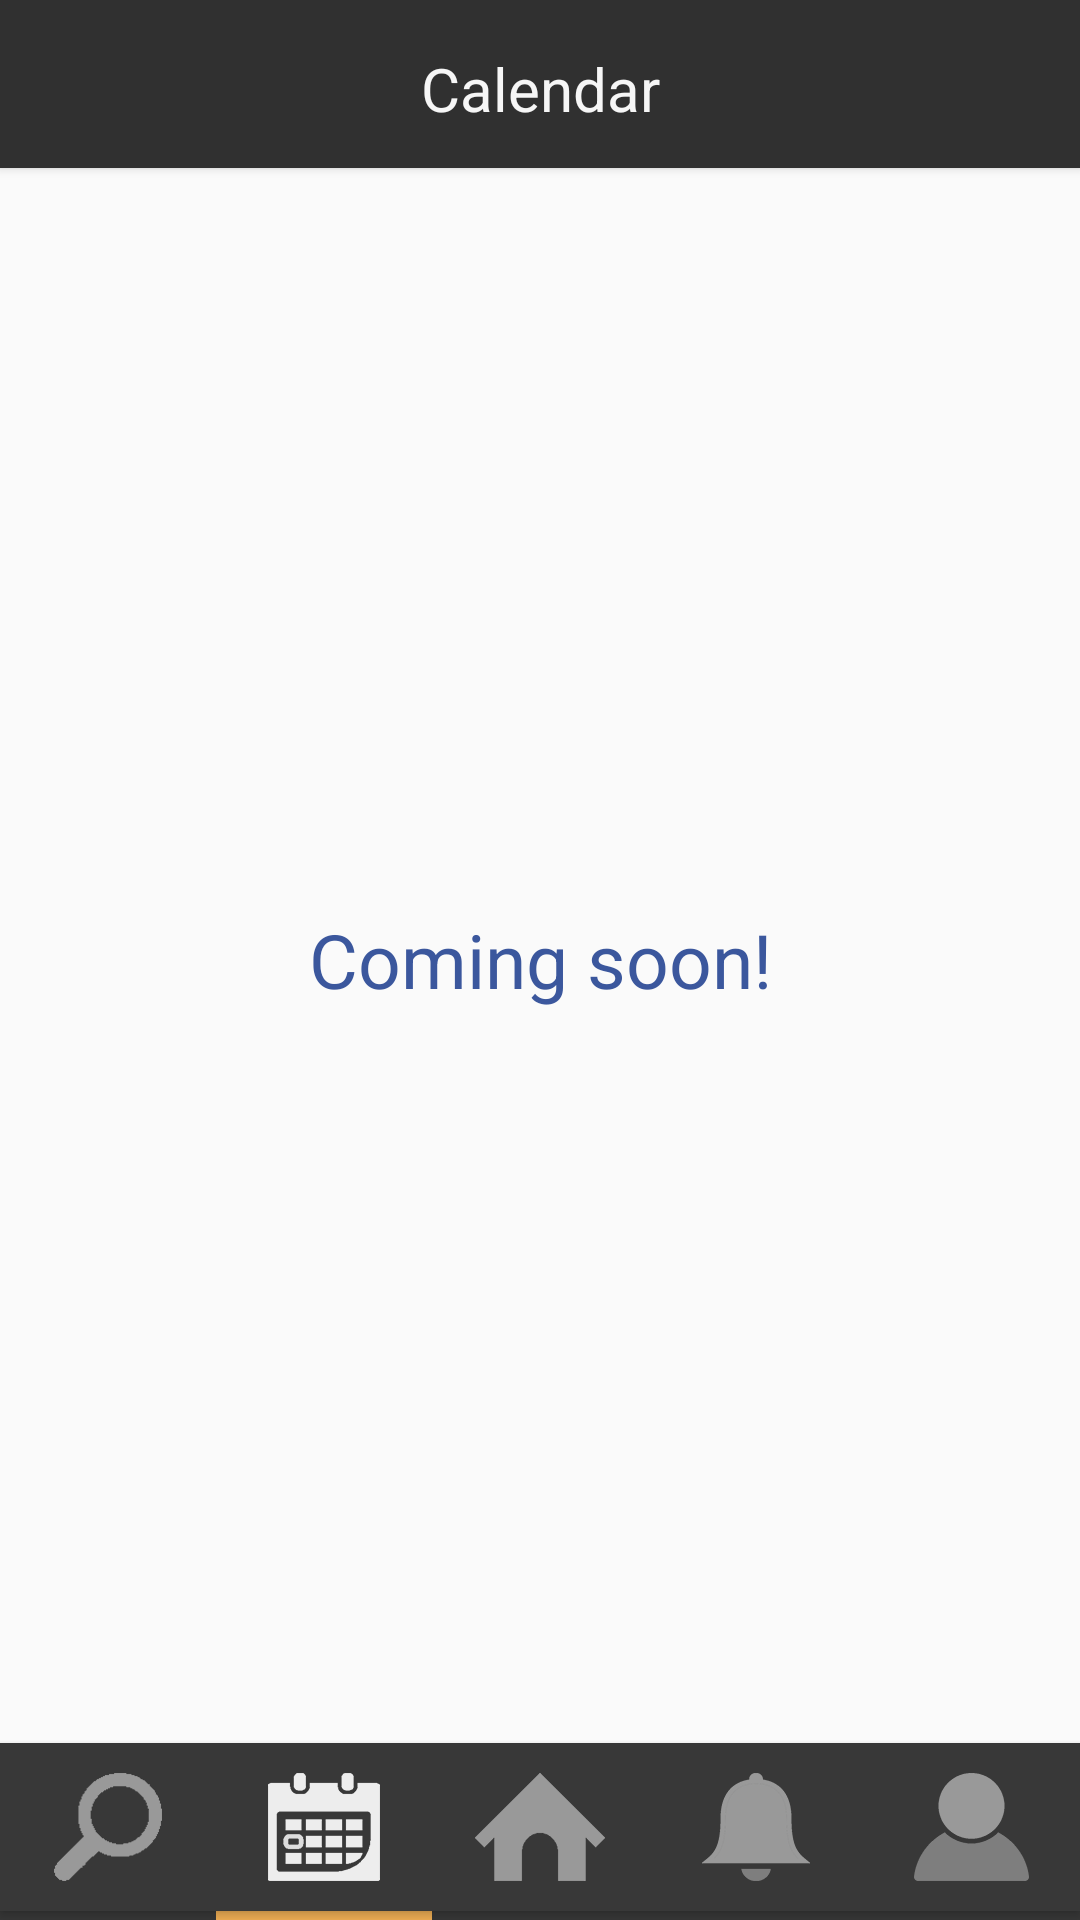

Icons on this 1080 × 1920 Android screen, each with the point to tap as (x=x, y=y):
event: (x=324, y=1827)
home: (x=540, y=1827)
notification: (x=756, y=1827)
profile: (x=971, y=1827)
search: (x=108, y=1827)
